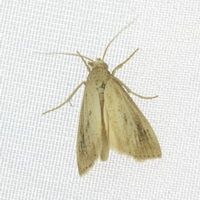insect: (42, 22, 161, 175)
